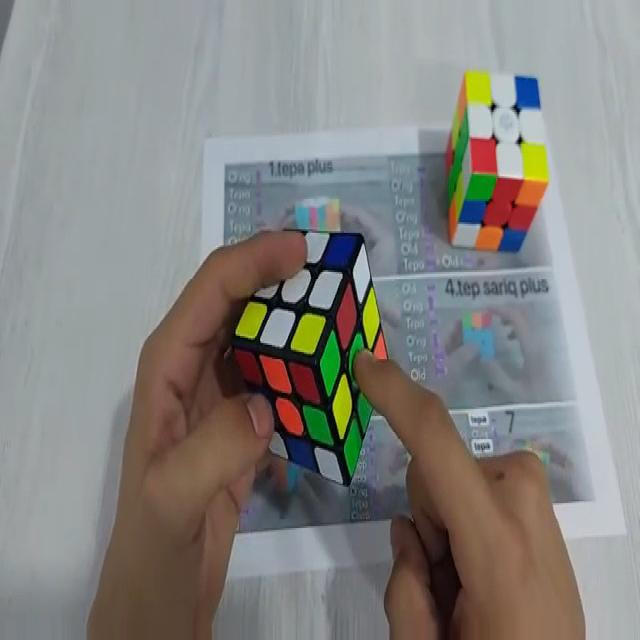Rub: (234, 225, 388, 488), (449, 71, 548, 252)
